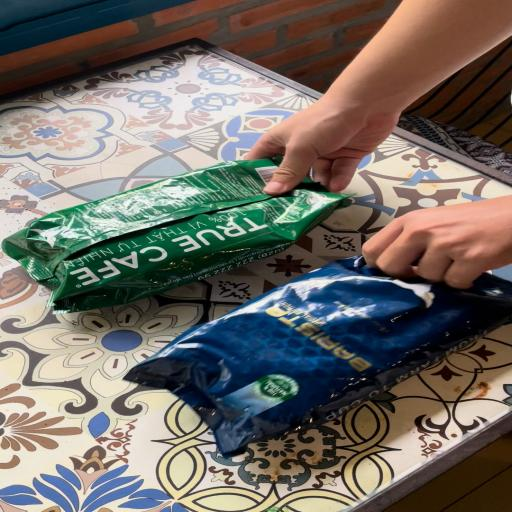cafe_hat: (125, 256, 512, 456)
cafe_xay: (2, 158, 350, 312)
